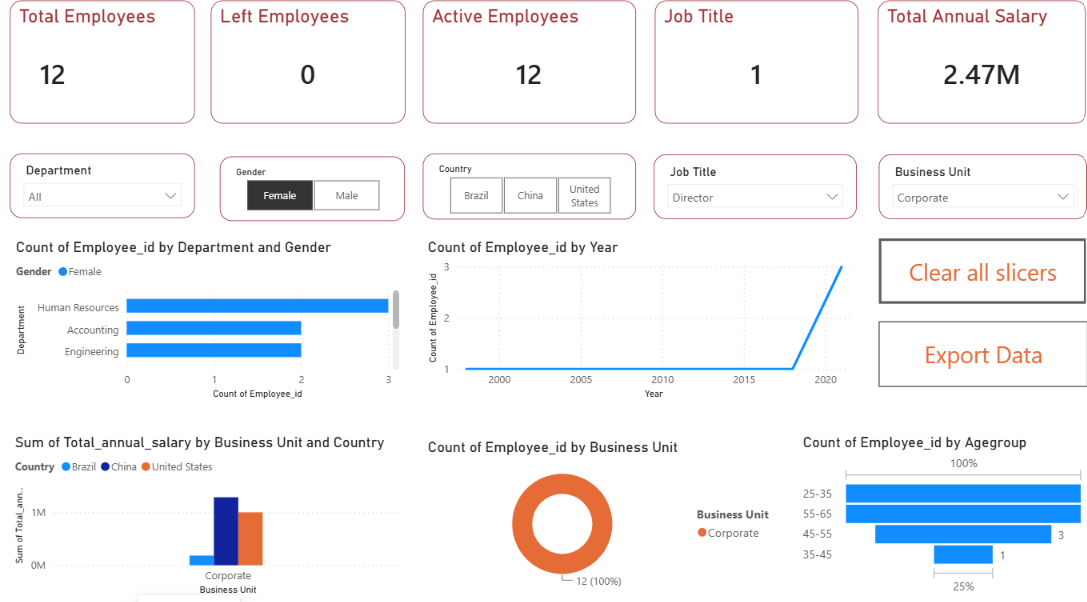

This screenshot's page, from the dashboard's own definition file:
{"tool":"powerbi","page":{"name":"Main dashboard","canvas":[1280,720],"ordinal":0},"visuals":[{"type":"cardVisual","title":"Total Employees","fields":{"Data":["Count(Employee.Employee_id)"]},"box":[15,6.7,215,143.3],"z":0},{"type":"cardVisual","title":"Left Employees","fields":{"Data":["Sum(Employee.leftData)"]},"box":[248.3,6.7,226.7,143.3],"z":1000},{"type":"cardVisual","title":"Active Employees","fields":{"Data":["Employee.ActiveCount"]},"box":[495,6.7,248.3,143.3],"z":2000},{"type":"cardVisual","title":"Job Title","fields":{"Data":["Count(Employee.Job Title)"]},"box":[765,6.7,236.7,143.3],"z":3000},{"type":"cardVisual","title":"Total Annual Salary","fields":{"Data":["Sum(Employee.Total_annual_salary)"]},"box":[1025,6.7,243.3,143.3],"z":4000},{"type":"slicer","fields":{"Values":["Employee.Gender"]},"box":[259.3,188,215.4,75.5],"z":6000},{"type":"slicer","fields":{"Values":["Employee.Department"]},"box":[15.1,185.2,215.4,75.5],"z":6001},{"type":"slicer","fields":{"Values":["Employee.Country"]},"box":[495.4,185.2,248.4,76.8],"z":6002},{"type":"slicer","fields":{"Values":["Employee.Job Title"]},"box":[764.3,186.6,236,75.5],"z":6003},{"type":"slicer","fields":{"Values":["Employee.Business Unit"]},"box":[1025,186.6,242.9,75.5],"z":6004},{"type":"actionButton","box":[1026,284,242,76],"z":6005},{"type":"actionButton","box":[1026,380,244,76],"z":6006},{"type":"clusteredBarChart","fields":{"Category":["Employee.Department"],"Y":["CountNonNull(Employee.Employee_id)"],"Series":["Employee.Gender"]},"box":[18,284,456,192],"z":6007},{"type":"clusteredColumnChart","fields":{"Y":["Sum(Employee.Total_annual_salary)"],"Category":["Employee.Business Unit"],"Series":["Employee.Country"]},"box":[16.7,510,460,193.3],"z":6008},{"type":"donutChart","fields":{"Category":["Employee.Business Unit"],"Y":["CountNonNull(Employee.Employee_id)"]},"box":[496.7,516.7,423.3,180],"z":6009},{"type":"funnel","fields":{"Category":["Employee.Agegroup"],"Y":["CountNonNull(Employee.Employee_id)"]},"box":[932,510,338,192],"z":6010},{"type":"lineChart","fields":{"Y":["CountNonNull(Employee.Employee_id)"],"Category":["Employee.Hire Date.Variation.Date Hierarchy.Year"]},"box":[496,284,504,192],"z":6011}]}

Visuals, with their boxes in screenshot pixels (x1, y1, x2, y2), scaled from the page's 1280x720 canvas onto the 1087x602 screenshot:
"Total Employees" cardVisual: (left=13, top=6, right=195, bottom=125)
"Left Employees" cardVisual: (left=211, top=6, right=403, bottom=125)
"Active Employees" cardVisual: (left=420, top=6, right=631, bottom=125)
"Job Title" cardVisual: (left=650, top=6, right=851, bottom=125)
"Total Annual Salary" cardVisual: (left=870, top=6, right=1077, bottom=125)
slicer - Employee.Gender: (left=220, top=157, right=403, bottom=220)
slicer - Employee.Department: (left=13, top=155, right=196, bottom=218)
slicer - Employee.Country: (left=421, top=155, right=632, bottom=219)
slicer - Employee.Job Title: (left=649, top=156, right=849, bottom=219)
slicer - Employee.Business Unit: (left=870, top=156, right=1077, bottom=219)
actionButton: (left=871, top=237, right=1077, bottom=301)
actionButton: (left=871, top=318, right=1079, bottom=381)
clusteredBarChart - Employee.Department x CountNonNull(Employee.Employee_id): (left=15, top=237, right=403, bottom=398)
clusteredColumnChart - Sum(Employee.Total_annual_salary) x Employee.Business Unit: (left=14, top=426, right=405, bottom=588)
donutChart - Employee.Business Unit x CountNonNull(Employee.Employee_id): (left=422, top=432, right=781, bottom=583)
funnel - Employee.Agegroup x CountNonNull(Employee.Employee_id): (left=791, top=426, right=1079, bottom=587)
lineChart - CountNonNull(Employee.Employee_id) x Employee.Hire Date.Variation.Date Hierarchy.Year: (left=421, top=237, right=849, bottom=398)
